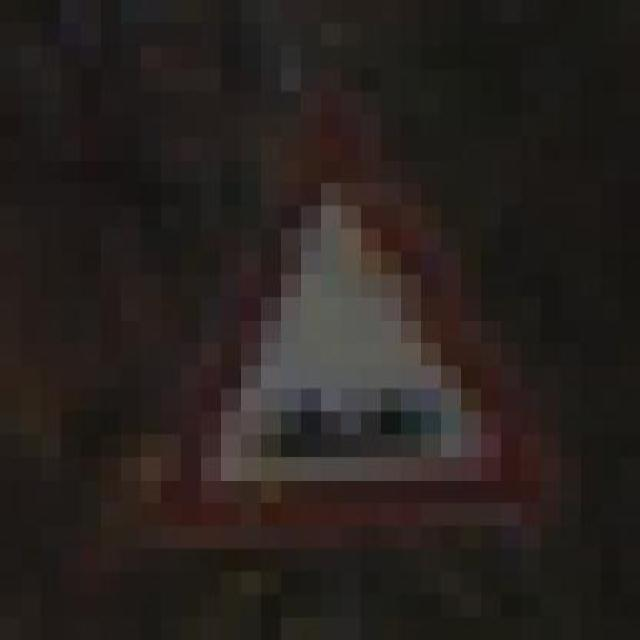Uneven Road: (140, 91, 560, 548)
